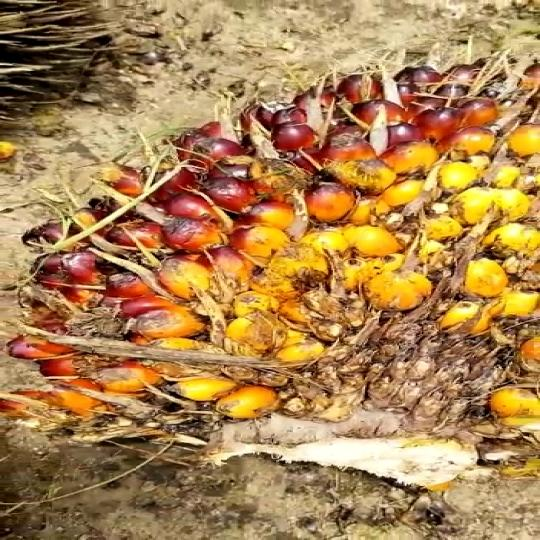masak: (28, 29, 540, 469)
